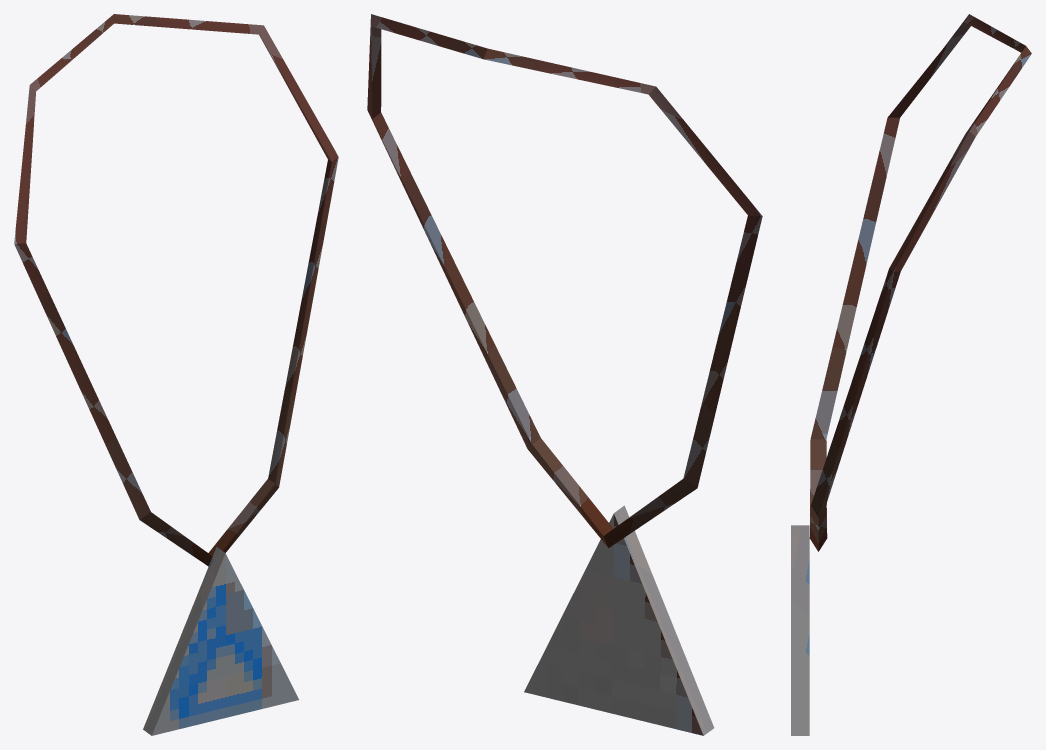
File: atf_jedi_dark_side_amulet_l2.fbx
The picture shows the model from 3 angles, left to right: view 1: azimuth 30°, elevation 25°; view 2: azimuth 150°, elevation 25°; view 3: azimuth 270°, elevation 25°; orthographic projection. The views are drawn at different scales.
Parts seen in each view (by area): view 1: mesh_node; view 2: mesh_node; view 3: mesh_node.
Part boxes in pixels (x1,y1,x2,y2): mesh_node: [14, 14, 338, 735]; mesh_node: [367, 14, 762, 735]; mesh_node: [791, 14, 1031, 735].
Size of the model in its own units: 0.1044 by 0.191 by 0.0639.
Materials: 1 (1 with a texture image).
